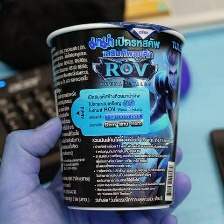paper_cup: (40, 18, 192, 214)
